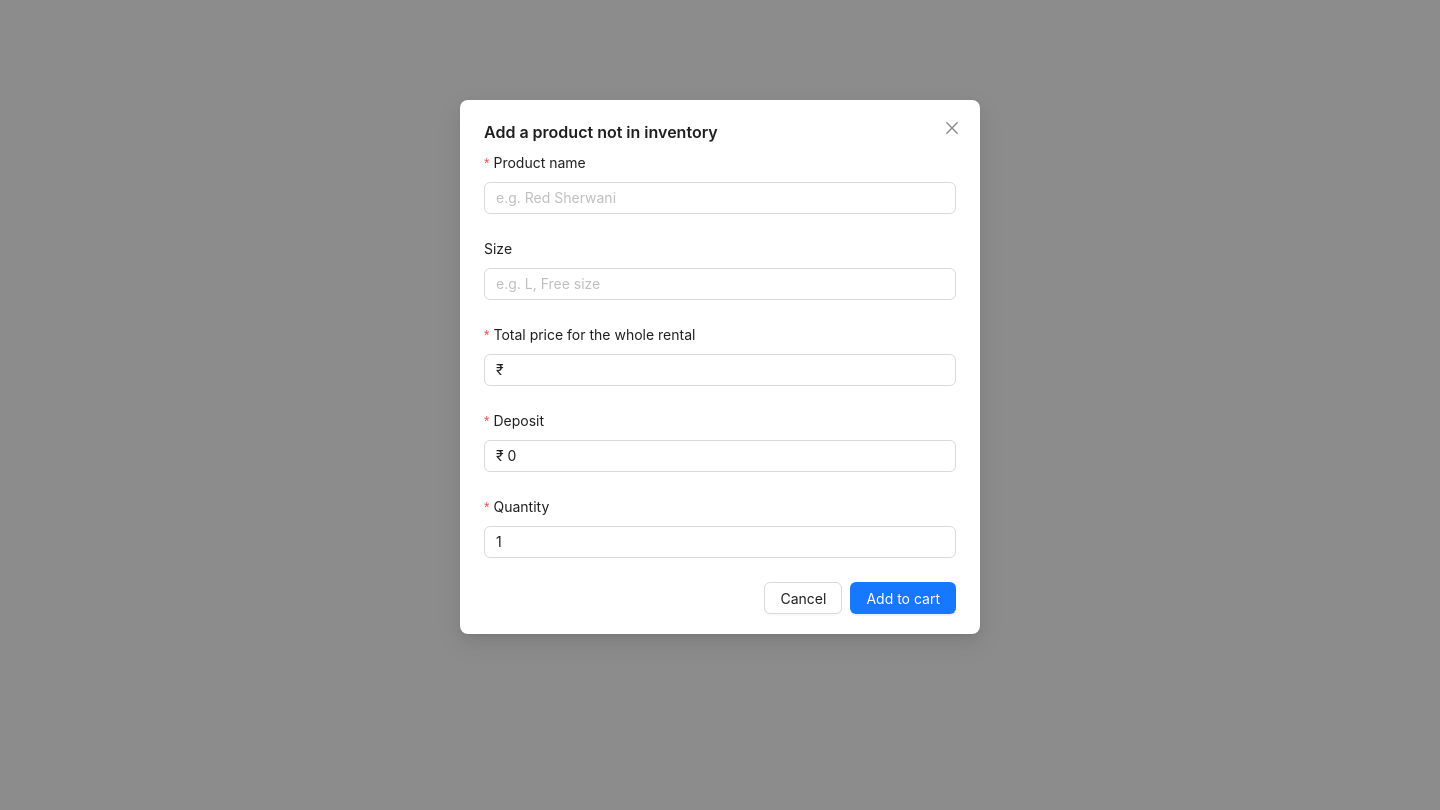
Test: AdHocItemModal › shows the derived per-day rate used for late fees
This screenshot has width=1440, height=810.
In the number field labelled "Total price for the whole rental": (731,370) [508, 355, 955, 385], type "500"
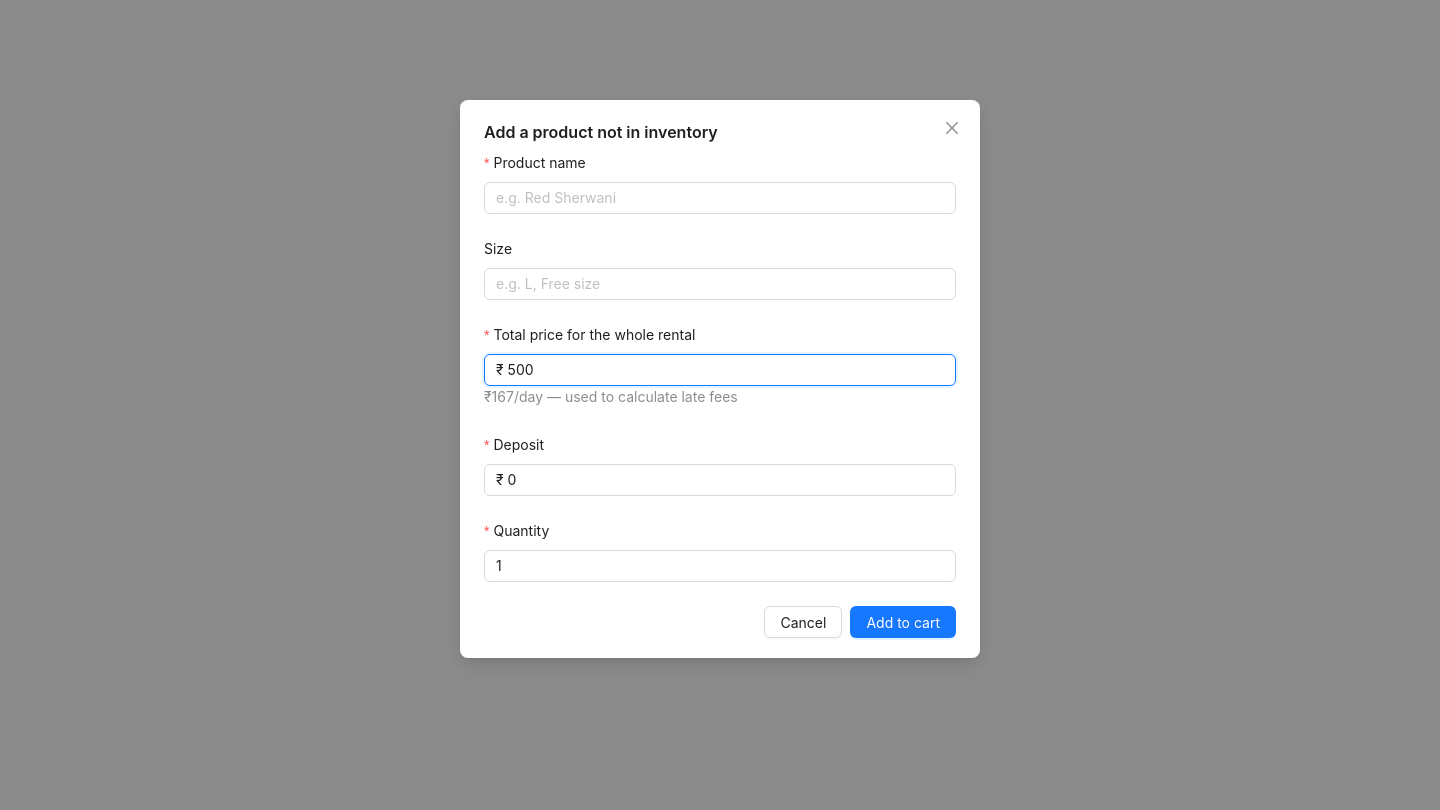
Expected: the text "₹167/day — used to calculate late fees" is shown, [484, 388, 738, 405]
